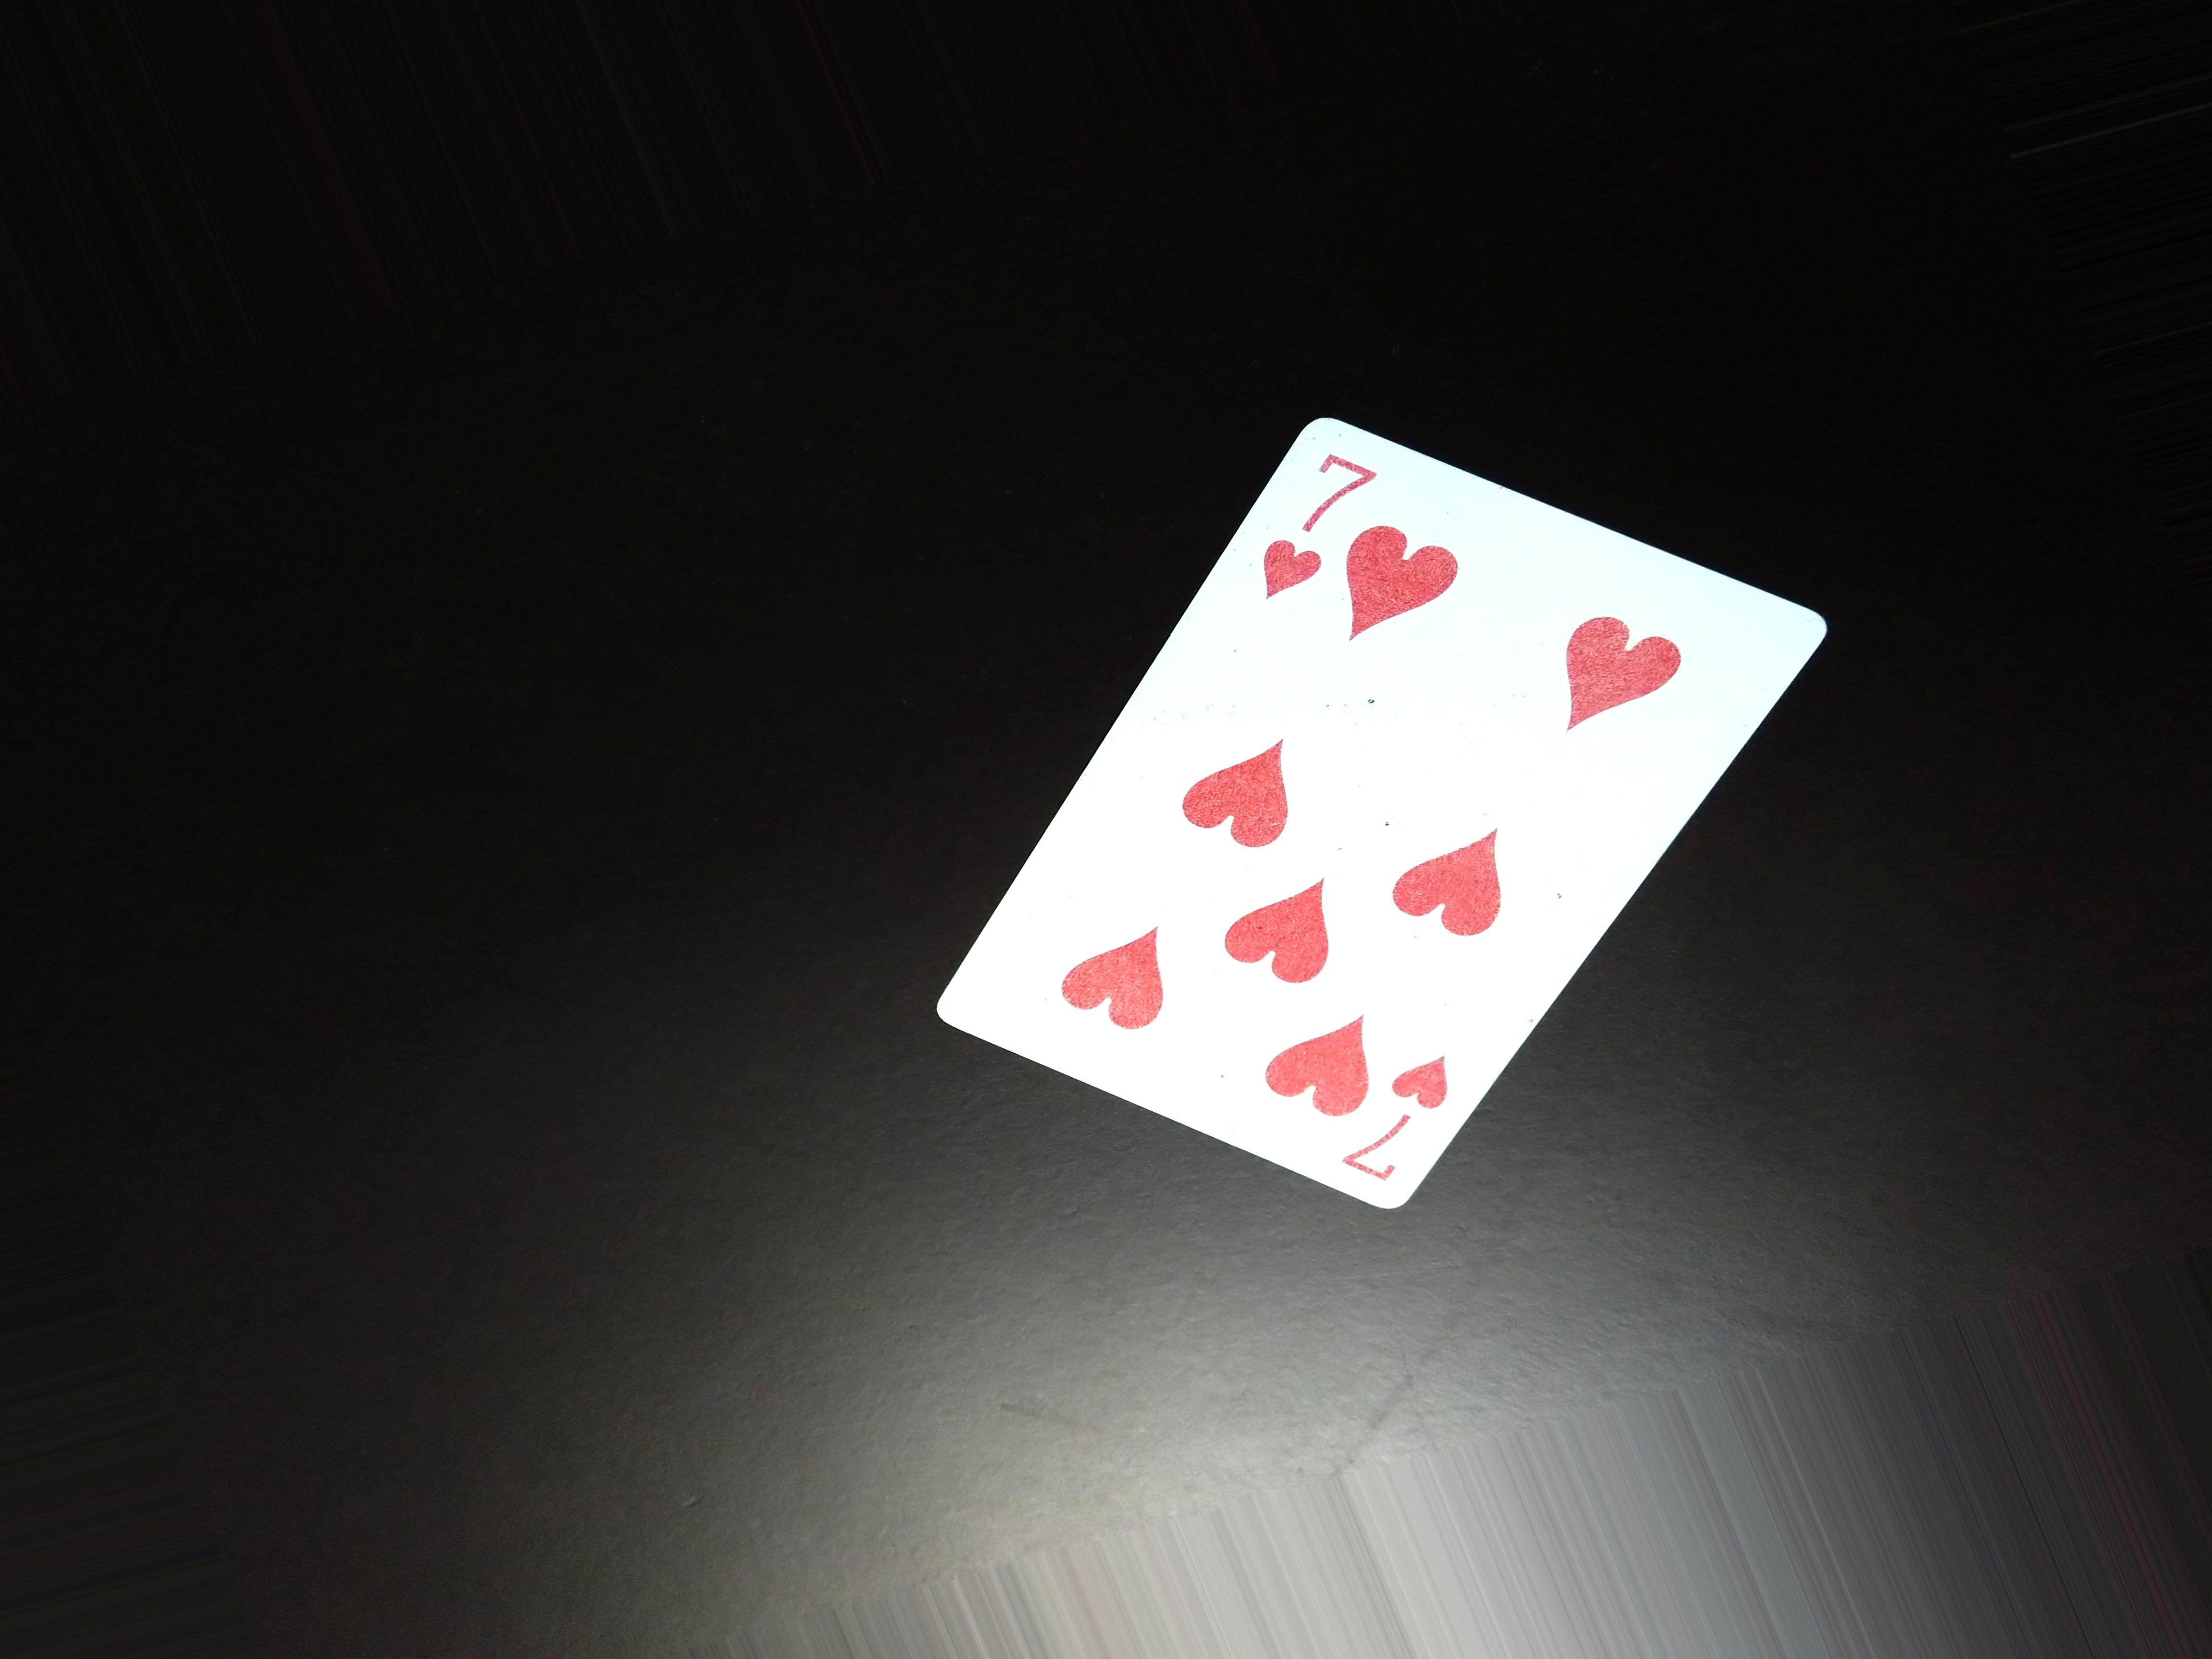7H: (1343, 1053, 1461, 1185)
